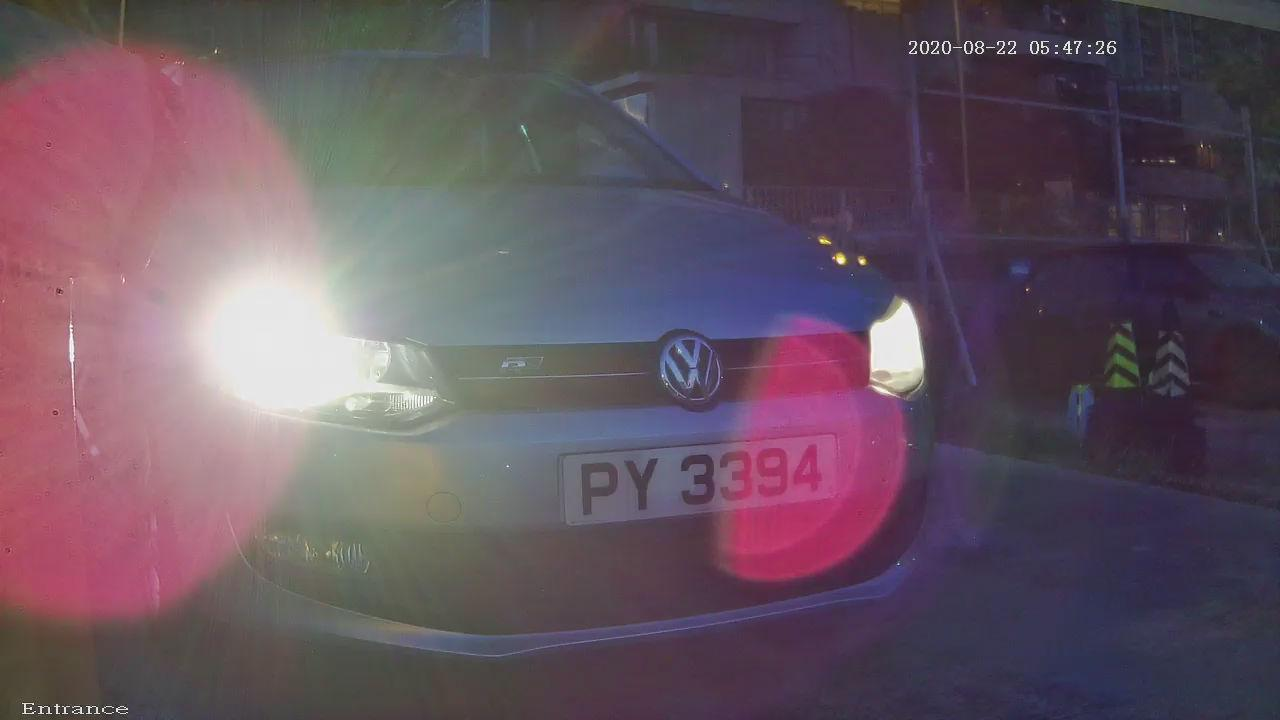Car: (12, 45, 1035, 688)
License Plate: (504, 389, 853, 549)
